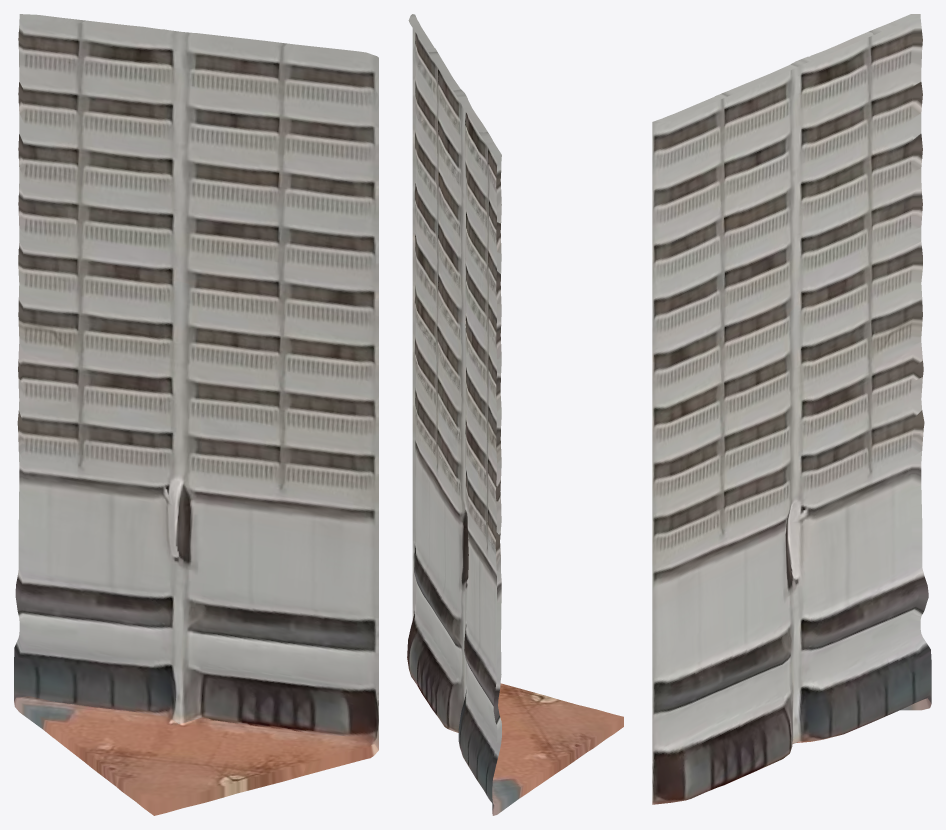
File: z20-167784-405225-h0-yup-uvflip-v3-world.glb
The picture shows the model from 3 angles, left to right: view 1: azimuth 30°, elevation 25°; view 2: azimuth 150°, elevation 25°; view 3: azimuth 270°, elevation 25°; orthographic projection. The views are drawn at different scales.
Size of the model in its own units: 13.08 by 39.12 by 14.12.
Materials: 1 (1 with a texture image).
